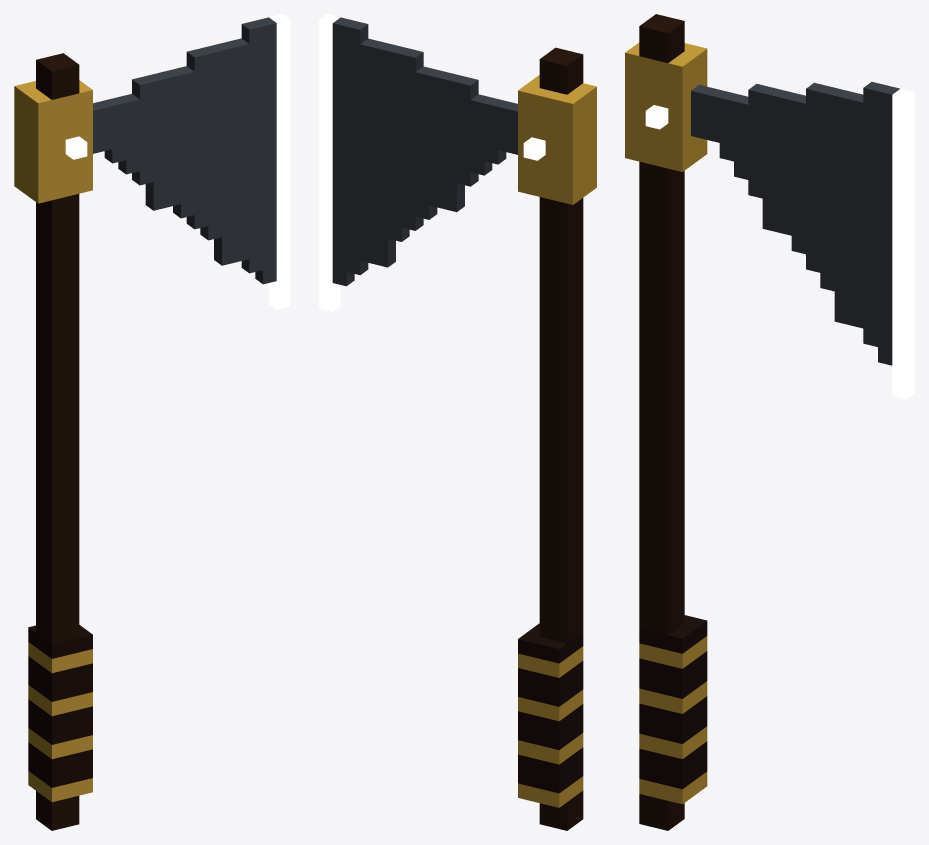
Rendered from emberwrought_axe.glb.
3 views of the same model, side by side, from view 1: azimuth 30°, elevation 25°; view 2: azimuth 150°, elevation 25°; view 3: azimuth 330°, elevation 25° (orthographic). The views are drawn at different scales.
Visible parts, largest first — view 1: emberwrought_axe; view 2: emberwrought_axe; view 3: emberwrought_axe.
Boxes of the visible parts, x1=… form: emberwrought_axe: x1=14, y1=14, x2=290, y2=830; emberwrought_axe: x1=319, y1=14, x2=596, y2=830; emberwrought_axe: x1=625, y1=14, x2=914, y2=830.
Size of the model in its own units: 0.285 by 0.795 by 0.075.
